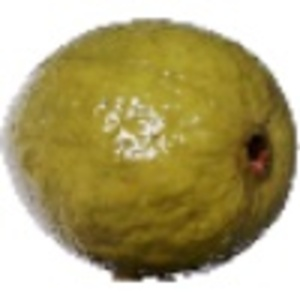goiaba: (3, 3, 296, 275)
